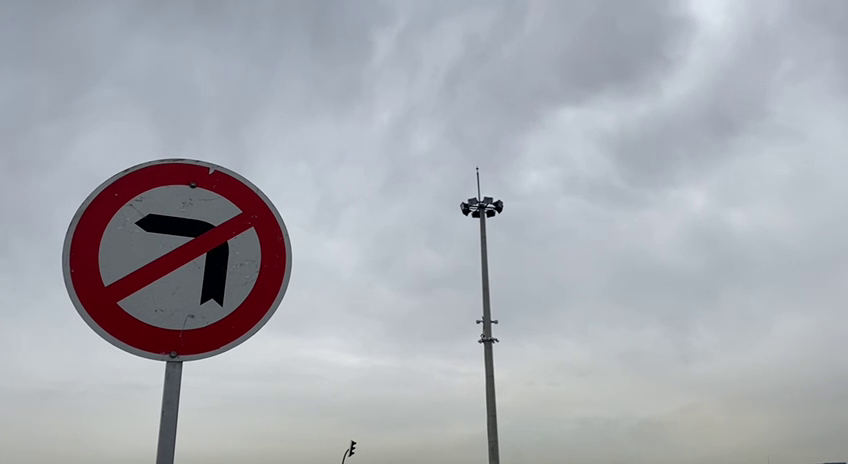noTurnLeft: (58, 147, 299, 370)
